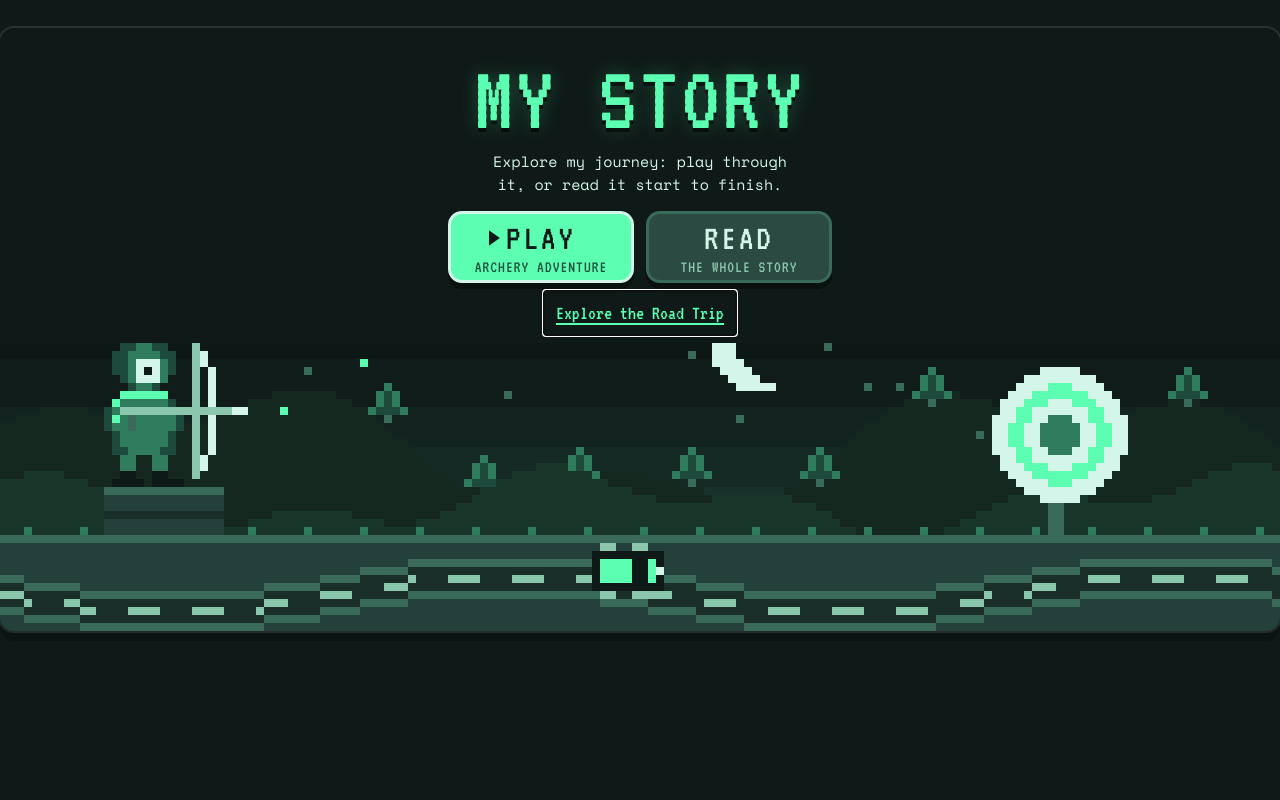
Test: closing it › Exit closes it, returns to the start screen and puts focus back where it was opened from
Click the button "Explore the Road Trip" at (640, 313), box [544,291,736,335]
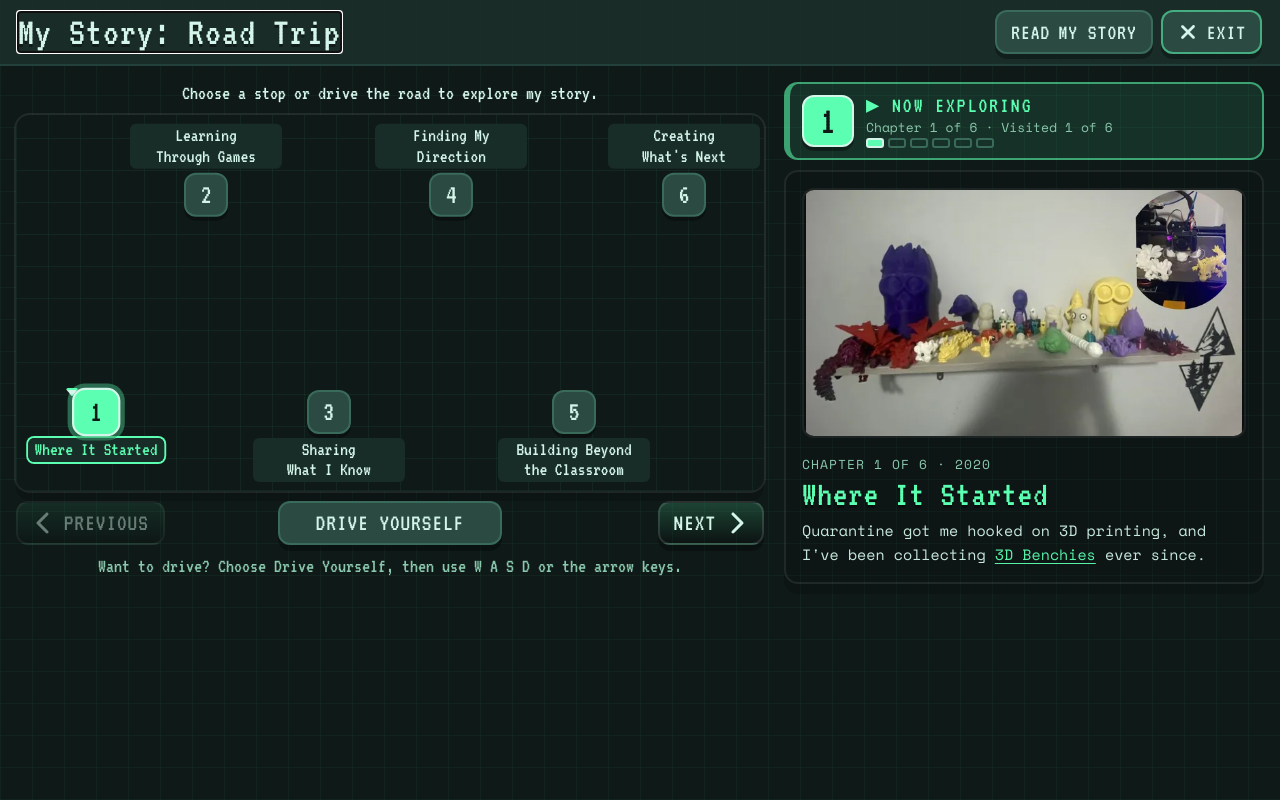
Check: the dialog "My Story: Road Trip" is shown
Click the button "Exit" at (1211, 32), box [1161,10,1262,54]
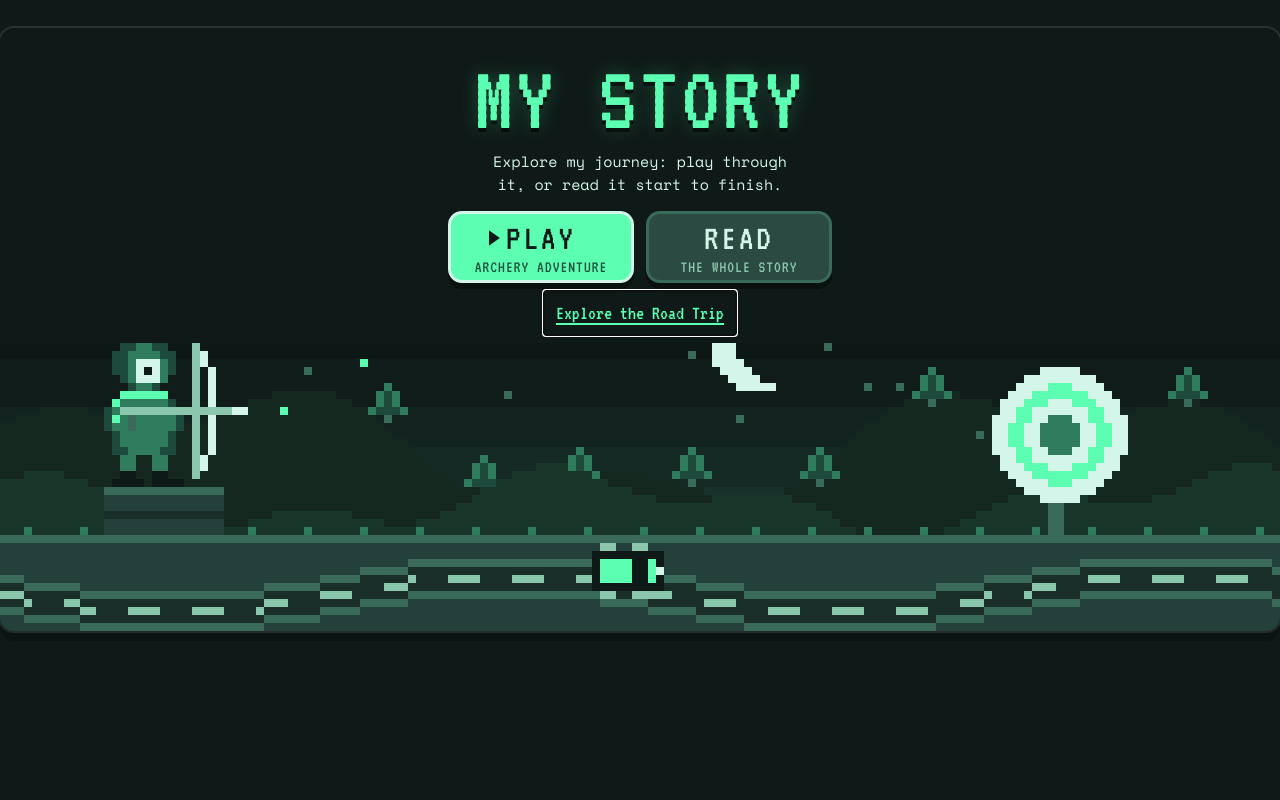
Check: the button "Play archery adventure" is shown, box [448,211,634,283]
Check: the dialog is gone
